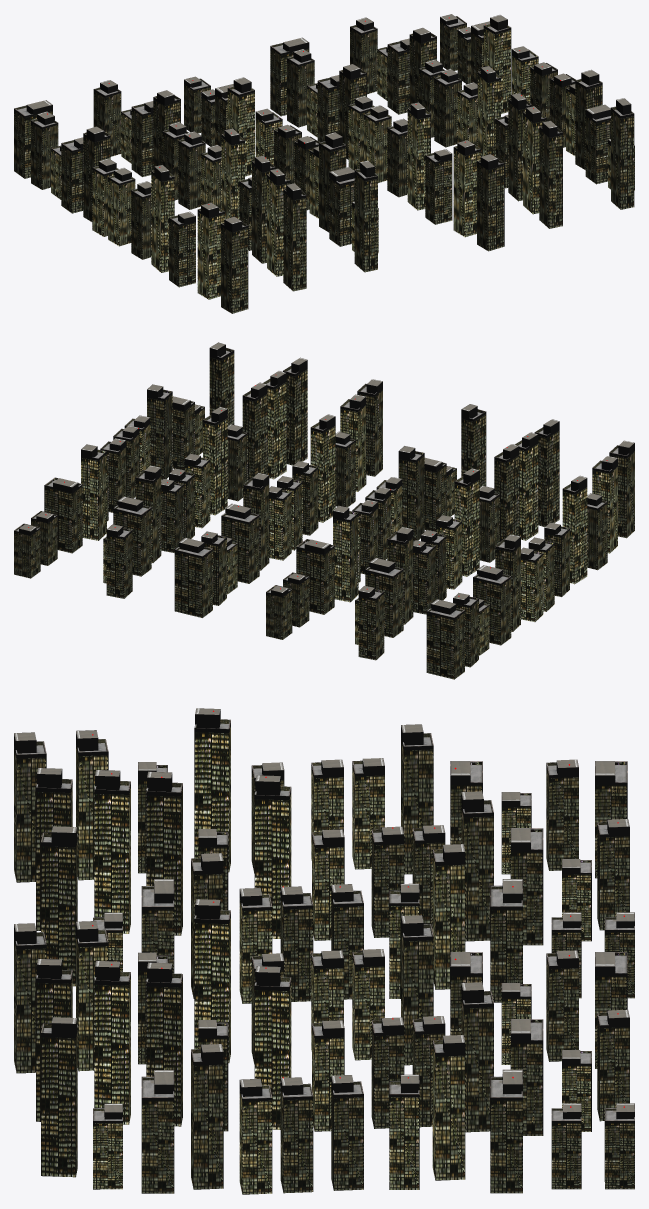
File: uploads_files_969873_City+Blocks2.fbx
The picture shows the model from 3 angles, top to bottom: view 1: azimuth 30°, elevation 25°; view 2: azimuth 150°, elevation 25°; view 3: azimuth 270°, elevation 25°; orthographic projection. The views are drawn at different scales.
Visible parts, largest first — view 1: Cube_23, Cube_23_2, Cube_14, Cube_14_3, Cube_20, Cube_20_2, Cube_22_2, Cube_22, Cube_5_3, Cube_5_2, Cube_4_3, Cube_4_2 (+58 smaller); view 2: Cube_29, Cube_29_2, Cube_24_2, Cube_24, Cube_25_2, Cube_25, Cube_20_2, Cube_20, Cube_5_2, Cube_4, Cube_7_2, Cube_7_3 (+54 smaller); view 3: Cube_14_3, Cube_19_2, Cube_19, Cube_14, Cube_24_2, Cube_17_2, Cube_12_2, Cube_4, Cube_5_3, Cube_5_2, Cube_18_2, Cube_18 (+60 smaller).
Boxes of the visible parts, x1,y1,x2,y2 form: Cube_23: (221,216,248,313); Cube_23_2: (477,154,504,251); Cube_14: (354,160,377,272); Cube_14_3: (611,98,634,209); Cube_20: (283,183,306,291); Cube_20_2: (539,121,562,228); Cube_22_2: (453,140,481,237); Cube_22: (197,202,224,299); Cube_5_3: (407,102,430,210); Cube_5_2: (151,165,174,272); Cube_4_3: (425,149,452,224); Cube_4_2: (169,211,195,287); Cube_29: (426,599,464,679); Cube_29_2: (174,537,212,617); Cube_24_2: (81,444,106,540); Cube_24: (333,505,358,602); Cube_25_2: (44,477,82,553); Cube_25: (296,539,334,614); Cube_20_2: (283,357,307,465); Cube_20: (534,419,559,526); Cube_5_2: (562,475,587,584); Cube_4: (454,468,479,576); Cube_7_2: (473,565,511,645); Cube_7_3: (221,503,259,583); Cube_14_3: (41,1017,77,1177); Cube_19_2: (94,960,130,1124); Cube_19: (94,770,130,933); Cube_14: (41,826,77,986); Cube_24_2: (432,1035,465,1180); Cube_17_2: (191,1044,223,1189); Cube_12_2: (254,966,291,1129); Cube_4: (254,775,291,938); Cube_5_3: (194,899,230,1062); Cube_5_2: (194,708,230,872); Cube_18_2: (146,962,182,1126); Cube_18: (146,771,182,935).
Bounding box in the file's own units: 5323 × 1129 × 4120.
5 materials, 2 textured.
